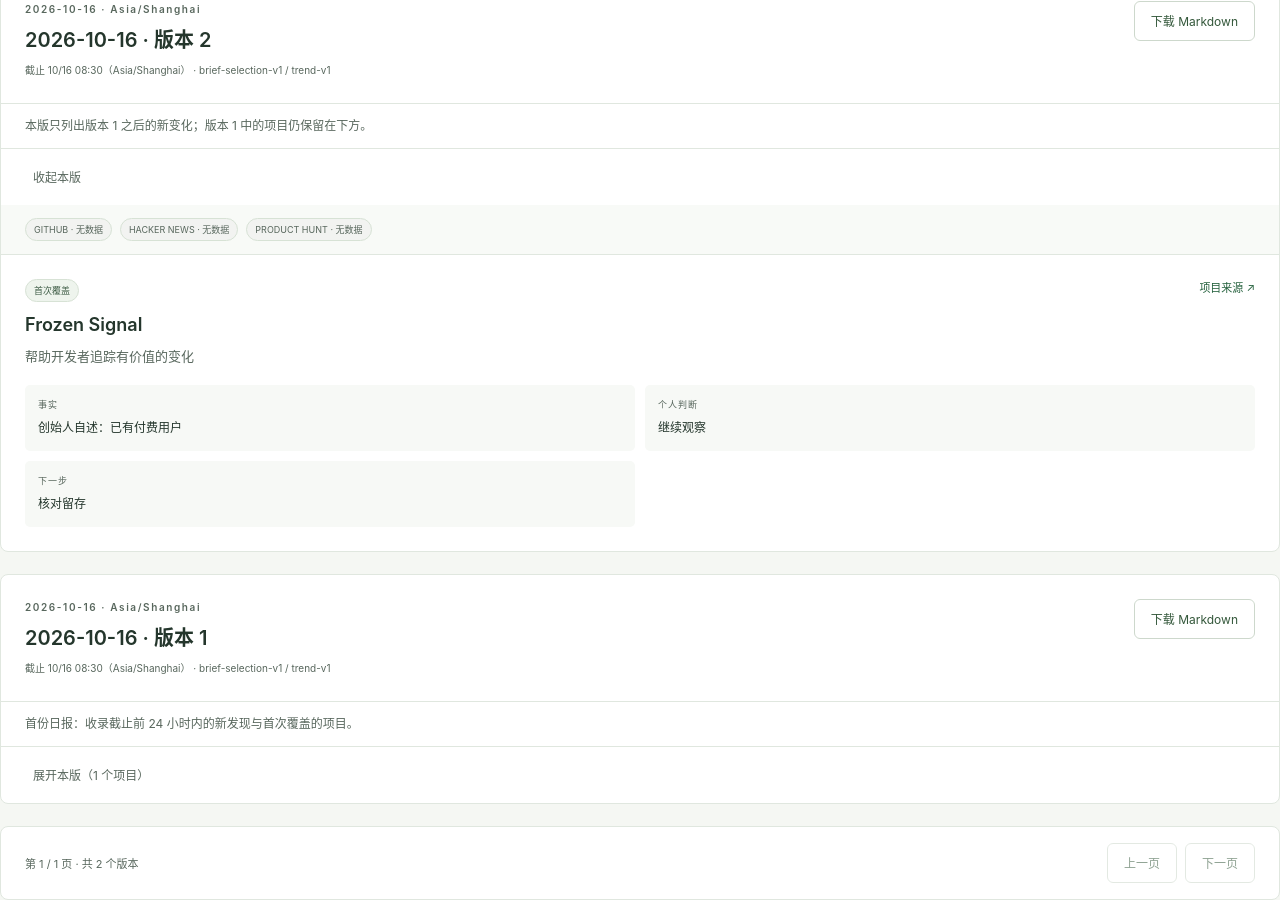
Scenario: BriefPage › expands only the newest version on the page and lets older ones open
The width and height of the screenshot is (1280, 900).
(page scrolled)
Expected: the heading "Frozen Signal" is shown, 25,314 -> 142,335
Step 1. Click the button "展开本版（1 个项目）" → click(91, 775), box 25,755 -> 157,795
(page scrolled)
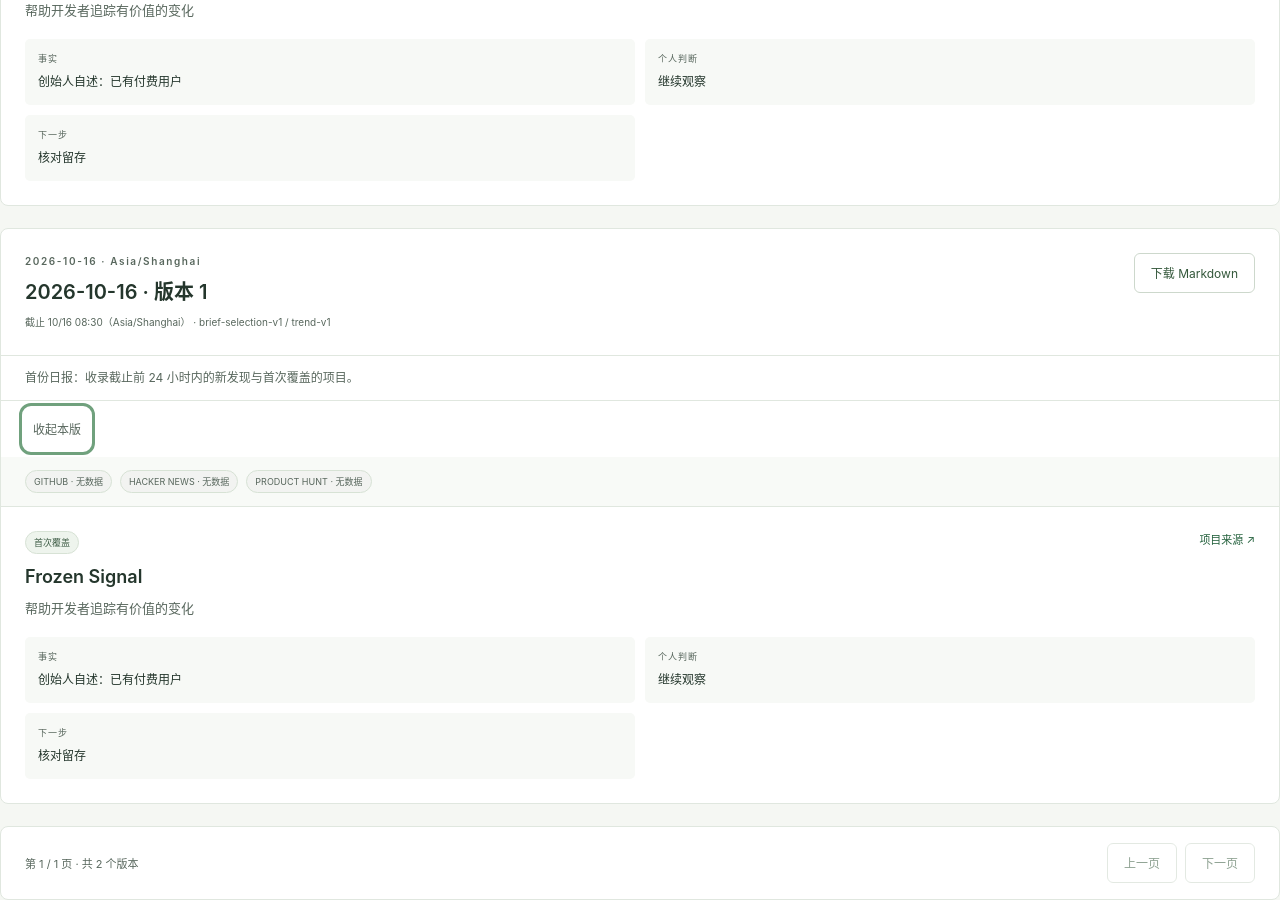
Expected: the button named "展开本版" is expanded, 25,409 -> 89,449
Expected: the heading "Frozen Signal" is shown, 25,566 -> 142,587
